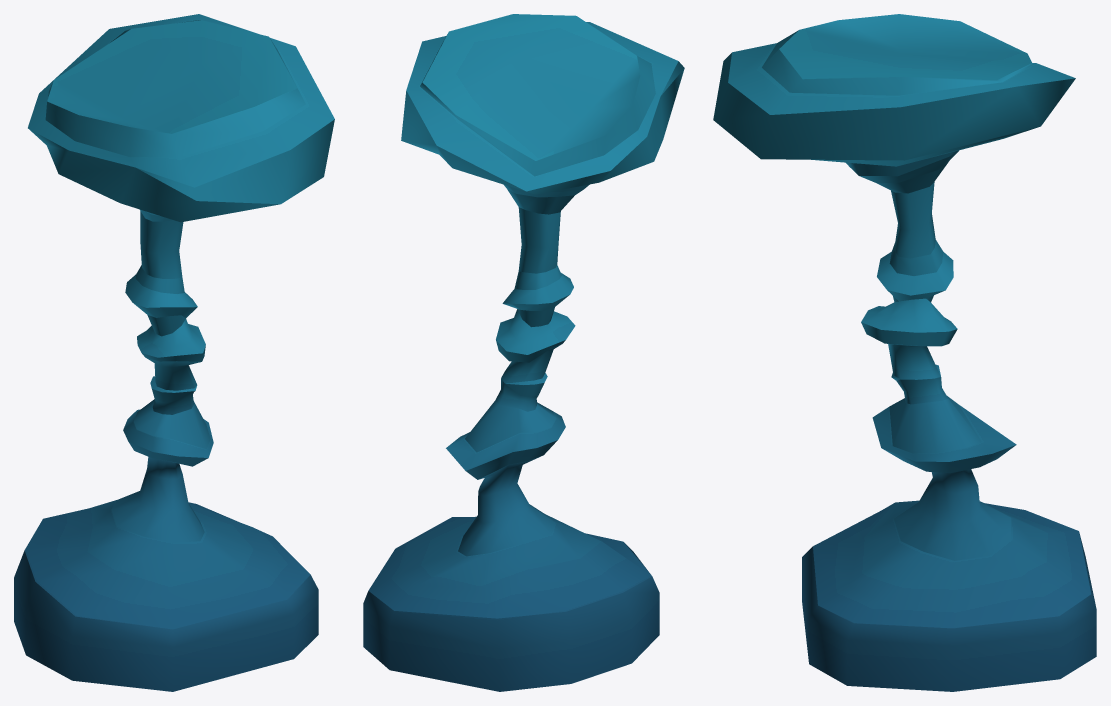
File: RockJ.fbx
The picture shows the model from 3 angles, left to right: view 1: azimuth 30°, elevation 25°; view 2: azimuth 150°, elevation 25°; view 3: azimuth 270°, elevation 25°; orthographic projection. The views are drawn at different scales.
Visible parts, largest first — view 1: RockJ; view 2: RockJ; view 3: RockJ.
Boxes of the visible parts, x1,y1,x2,y2 form: RockJ: (14,14,334,691); RockJ: (363,14,684,691); RockJ: (713,14,1096,691).
Bounding box in the file's own units: 289 × 638 × 372.
Materials: 1 (1 with a texture image).
